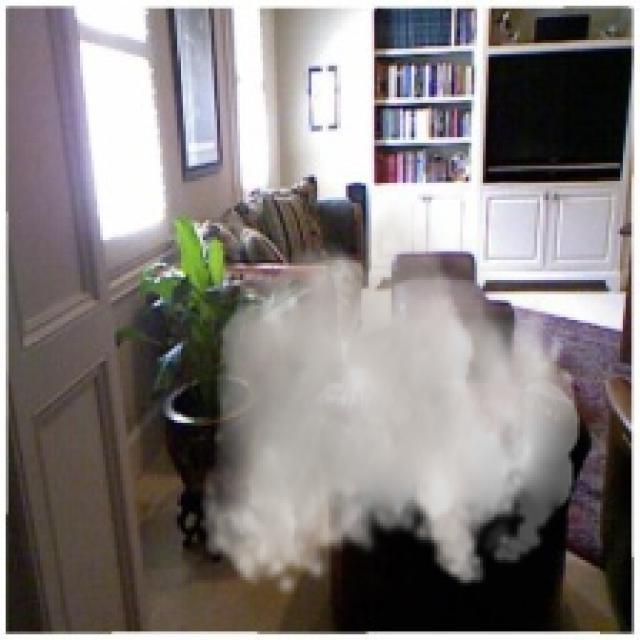Smoke: (200, 192, 580, 597)
